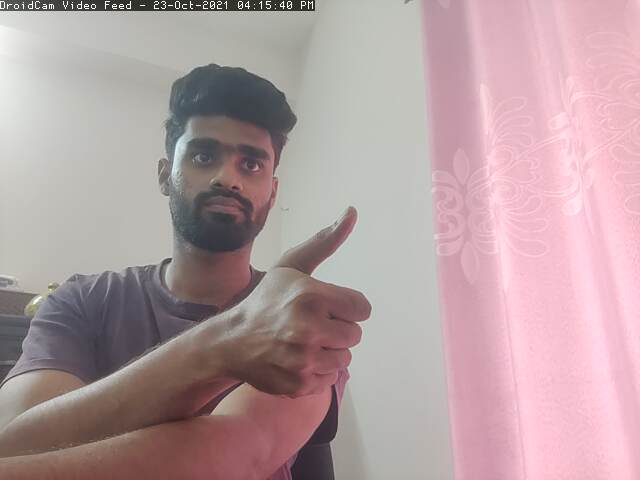ThumbsUp: (238, 202, 373, 404)
